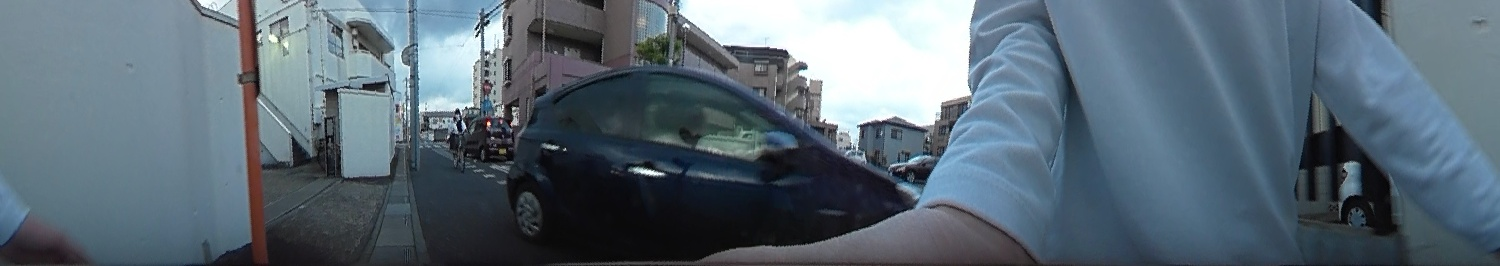difficult_person: (449, 103, 465, 150)
